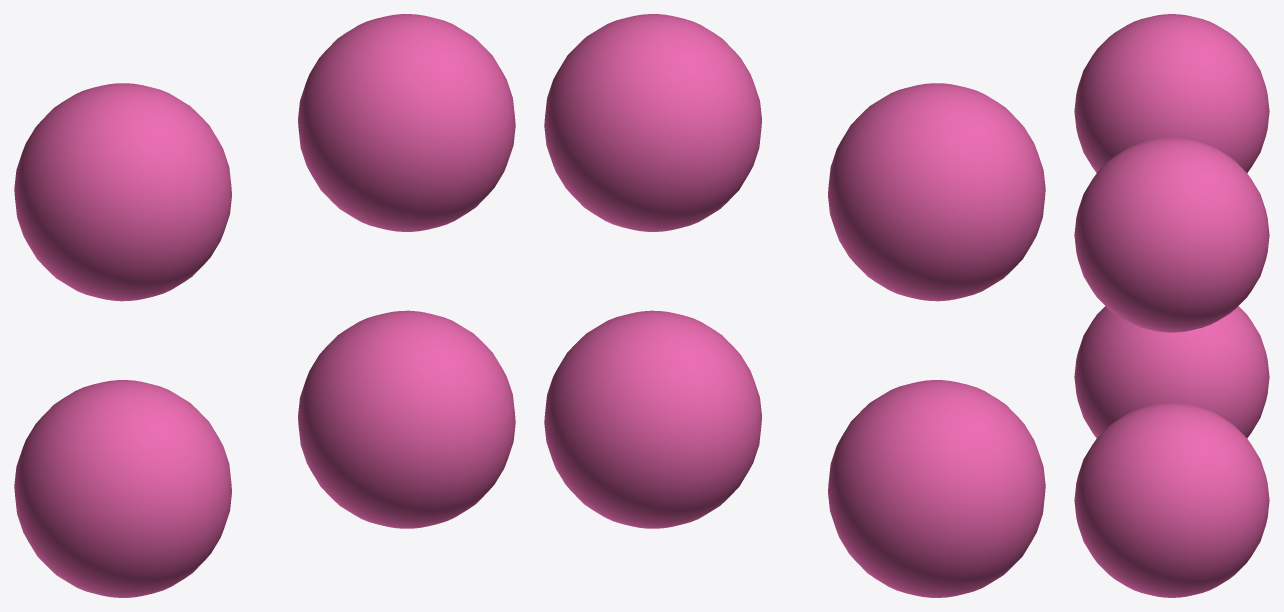
File: IBLtest.glb
The picture shows the model from 3 angles, left to right: view 1: azimuth 30°, elevation 25°; view 2: azimuth 150°, elevation 25°; view 3: azimuth 270°, elevation 25°; orthographic projection. The views are drawn at different scales.
Parts seen in each view (by area): view 1: s.002, s.003, s.001, s.004; view 2: s.002, s.003, s.001, s.004; view 3: s.002, s.004, s.003, s.001.
Part boxes in pixels (x1,y1,x2,y2): s.002: (298, 310, 515, 528); s.003: (14, 83, 231, 301); s.001: (14, 380, 231, 597); s.004: (298, 14, 515, 231); s.002: (544, 310, 761, 528); s.003: (828, 83, 1045, 301); s.001: (828, 380, 1045, 597); s.004: (544, 14, 761, 231); s.002: (1074, 403, 1269, 597); s.004: (1074, 137, 1269, 332); s.003: (1074, 14, 1269, 172); s.001: (1074, 306, 1269, 438).
Size of the model in its own units: 5 by 5 by 2.
